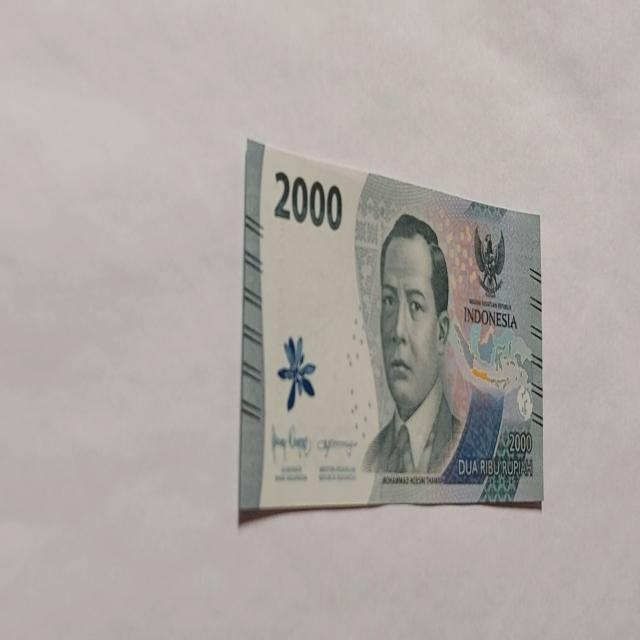dua ribu rupiah: (240, 138, 544, 516), (361, 212, 464, 478)
